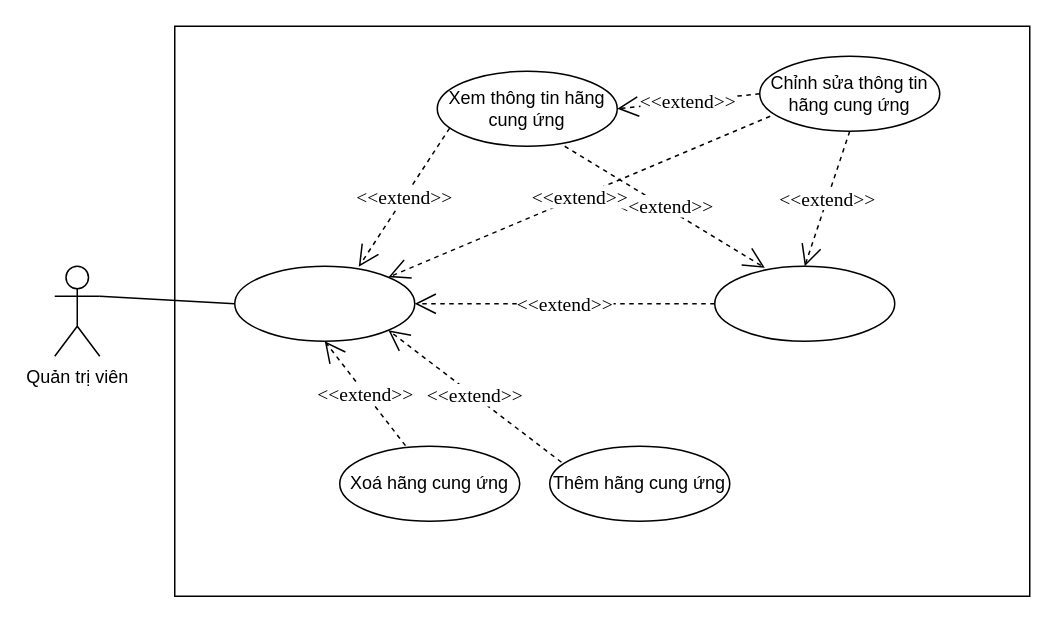
Some shapes in this 1056 by 623 pixel diagram are drawn without their labels. Here are the shapes that lost their labels. From the top down, the box of each, then its label:
(233, 265, 415, 341): Quản lý hãng cung ứng
(713, 265, 895, 341): Tìm kiếm hãng cung ứng
